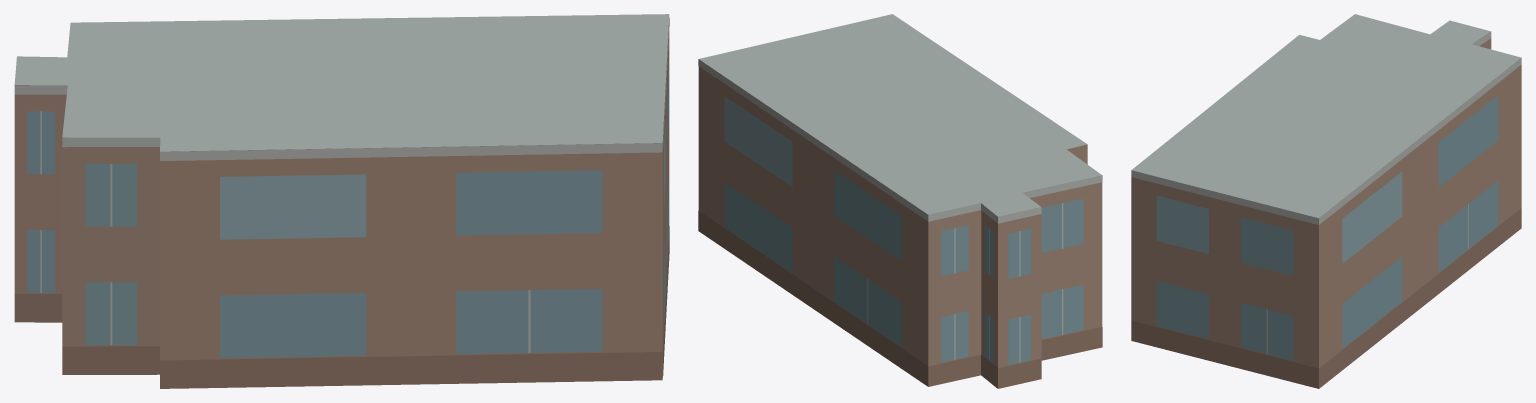
File: survey-upis-33033281.glb
3 renders of one model, left to right at view 1: azimuth 30°, elevation 25°; view 2: azimuth 150°, elevation 25°; view 3: azimuth 270°, elevation 25°, orthographic. The views are drawn at different scales.
Visible parts, largest first — view 1: survey-upis-33033281.tmp; view 2: survey-upis-33033281.tmp; view 3: survey-upis-33033281.tmp.
Boxes of the visible parts, <box> form: survey-upis-33033281.tmp: <box>14,14,669,388</box>; survey-upis-33033281.tmp: <box>698,14,1102,388</box>; survey-upis-33033281.tmp: <box>1131,14,1521,388</box>.
Bounding box in the file's own units: 15.67 × 6.1 × 12.66.
